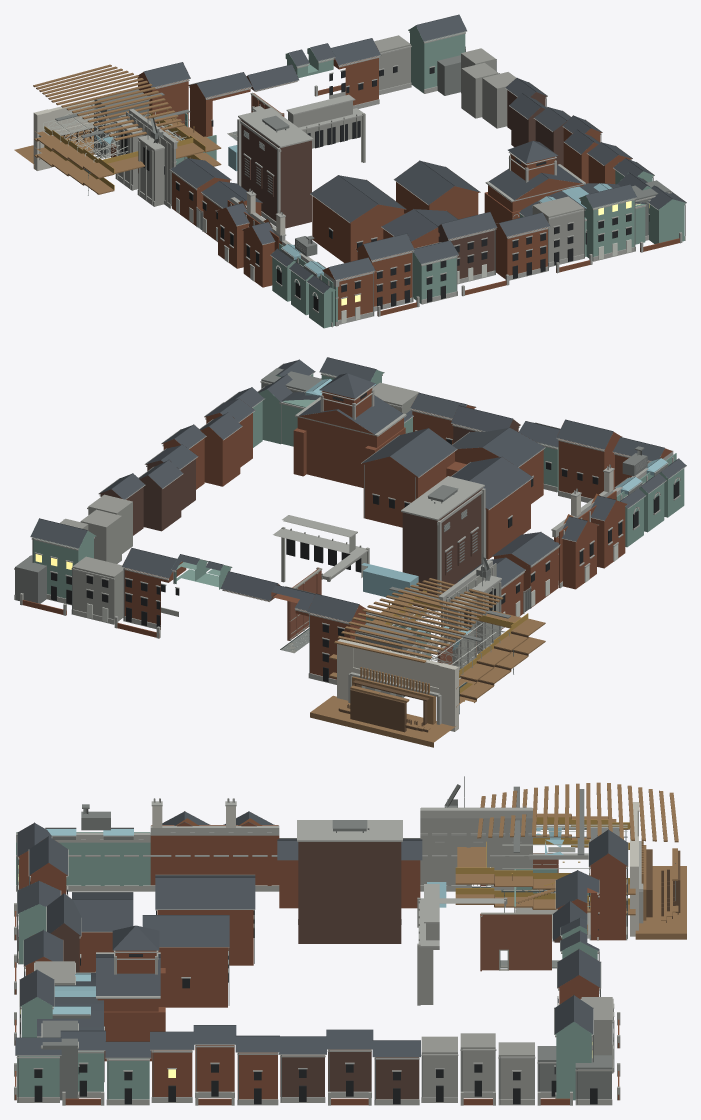
File: ellery-garden-approaches.glb
The picture shows the model from 3 angles, top to bottom: view 1: azimuth 30°, elevation 25°; view 2: azimuth 150°, elevation 25°; view 3: azimuth 270°, elevation 25°; orthographic projection. The views are drawn at different scales.
Parts seen in each view (by area): view 1: ellery_garden_elevation, ellery_garden_hall, ellery_baths_roof; view 2: ellery_garden_elevation, ellery_garden_hall, ellery_garden_built_edges, ellery_baths_roof; view 3: ellery_garden_elevation, ellery_garden_hall, ellery_garden_built_edges, ellery_baths_roof, ellery_garden_getin_sightline.
Boxes of the visible parts, x1=… form: ellery_garden_elevation: x1=93, y1=14, x2=686, y2=328; ellery_garden_hall: x1=14, y1=64, x2=221, y2=194; ellery_baths_roof: x1=43, y1=104, x2=186, y2=162; ellery_garden_elevation: x1=14, y1=357, x2=686, y2=697; ellery_garden_hall: x1=310, y1=578, x2=545, y2=747; ellery_garden_built_edges: x1=280, y1=567, x2=476, y2=665; ellery_baths_roof: x1=385, y1=607, x2=509, y2=679; ellery_garden_elevation: x1=14, y1=776, x2=628, y2=1105; ellery_garden_hall: x1=455, y1=782, x2=686, y2=939; ellery_garden_built_edges: x1=472, y1=853, x2=559, y2=971; ellery_baths_roof: x1=502, y1=824, x2=627, y2=884; ellery_garden_getin_sightline: x1=514, y1=869, x2=590, y2=937.
Size of the model in its own units: 93.42 by 22 by 105.
